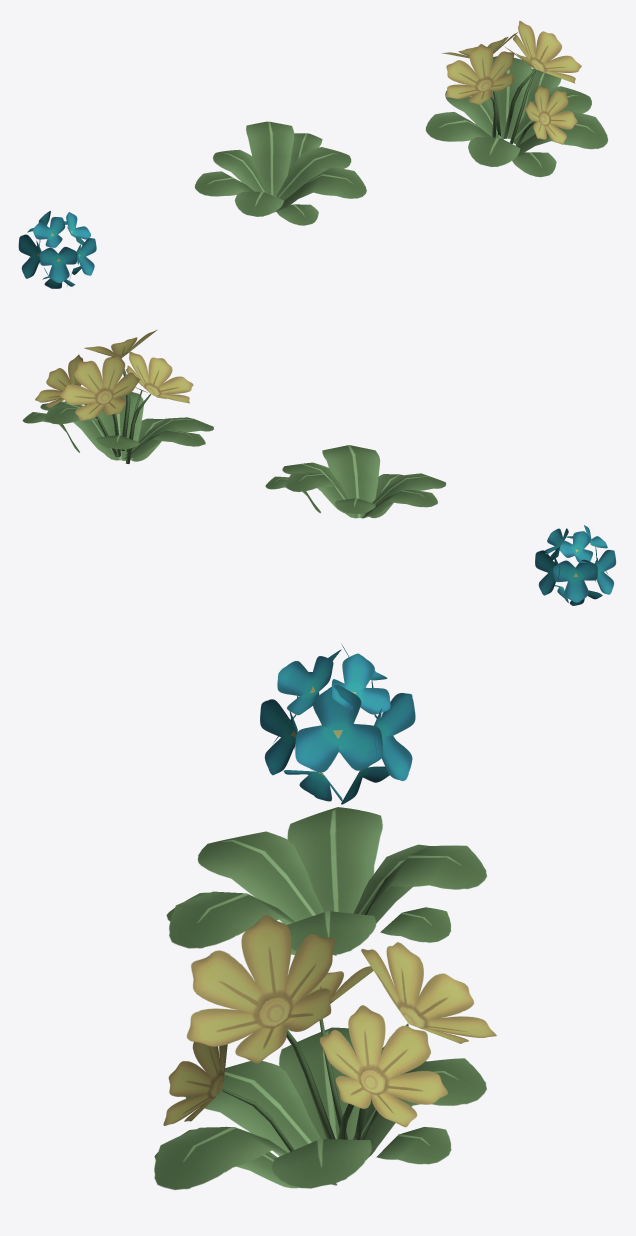
Rendered from Flower Bushes.glb.
3 views of the same model, one above another, from view 1: azimuth 30°, elevation 25°; view 2: azimuth 150°, elevation 25°; view 3: azimuth 270°, elevation 25° (orthographic). The views are drawn at different scales.
Parts seen in each view (by area): view 1: Plant_Flowers, Plant_2, Petals_1; view 2: Plant_Flowers, Plant_2, Petals_1; view 3: Plant_Flowers, Plant_2, Petals_1.
Part boxes in pixels (x1,y1,x2,y2): Plant_Flowers: [425, 21, 607, 177]; Plant_2: [194, 121, 366, 225]; Petals_1: [18, 211, 96, 288]; Plant_Flowers: [22, 330, 213, 463]; Plant_2: [265, 445, 446, 518]; Petals_1: [535, 525, 615, 605]; Plant_Flowers: [154, 914, 496, 1189]; Plant_2: [166, 807, 486, 955]; Petals_1: [260, 644, 415, 804].
Size of the model in its own units: 5 by 1.34 by 1.53.
1 material, 1 textured.
